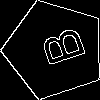B: (30, 25, 87, 71)
